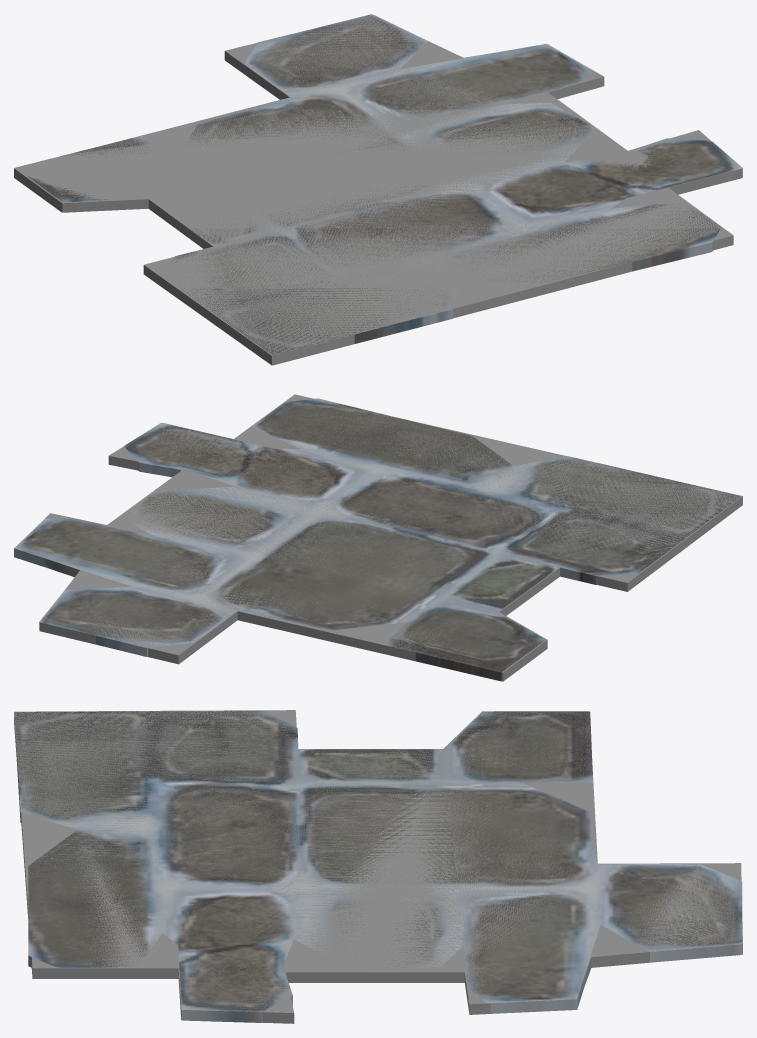
The model's file is Scene_Object_TianShan_DiMianzhuan_1.FBX.
3 views of the same model, one above another, from view 1: azimuth 30°, elevation 25°; view 2: azimuth 150°, elevation 25°; view 3: azimuth 270°, elevation 25° (orthographic). The views are drawn at different scales.
Visible parts, largest first — view 1: Scene_Object_TianShan_DiMianzhuan_1_Xzm, Scene_Object_TianShan_DiMianzhuan_1; view 2: Scene_Object_TianShan_DiMianzhuan_1, Scene_Object_TianShan_DiMianzhuan_1_Xzm; view 3: Scene_Object_TianShan_DiMianzhuan_1, Scene_Object_TianShan_DiMianzhuan_1_Xzm.
Part boxes in pixels (left/top/right/bottom): Scene_Object_TianShan_DiMianzhuan_1_Xzm: left=14, top=14, right=742, bottom=365; Scene_Object_TianShan_DiMianzhuan_1: left=15, top=14, right=742, bottom=355; Scene_Object_TianShan_DiMianzhuan_1: left=14, top=398, right=740, bottom=681; Scene_Object_TianShan_DiMianzhuan_1_Xzm: left=39, top=394, right=742, bottom=681; Scene_Object_TianShan_DiMianzhuan_1: left=14, top=711, right=742, bottom=1022; Scene_Object_TianShan_DiMianzhuan_1_Xzm: left=14, top=710, right=742, bottom=1023.
Size of the model in its own units: 148 by 2.43 by 150.
